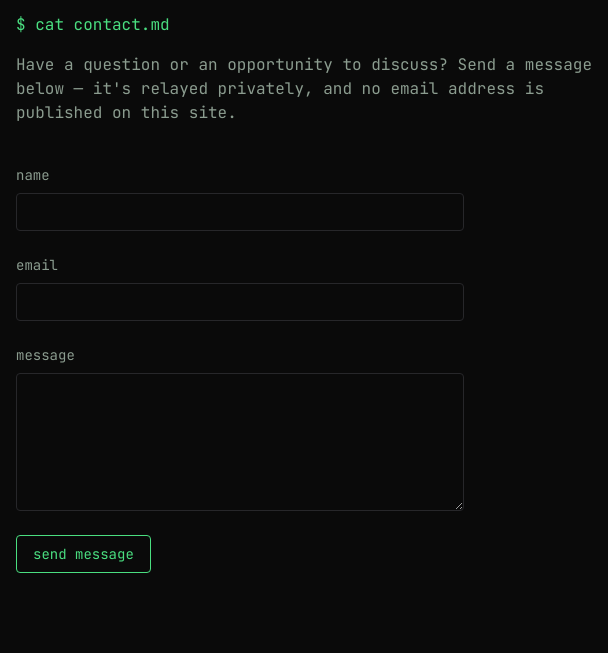
it: Contact page › shows an error state without crashing when the relay responds with a failure status
In the field labelled "name": (240, 212) [16,193,464,231], type "Ada Lovelace"
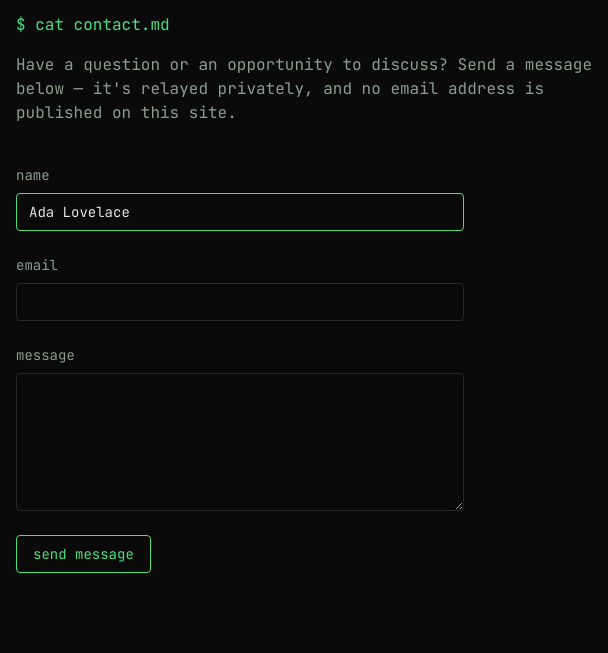
In the field labelled "email": (240, 302) [16,283,464,321], type "ada@example.com"
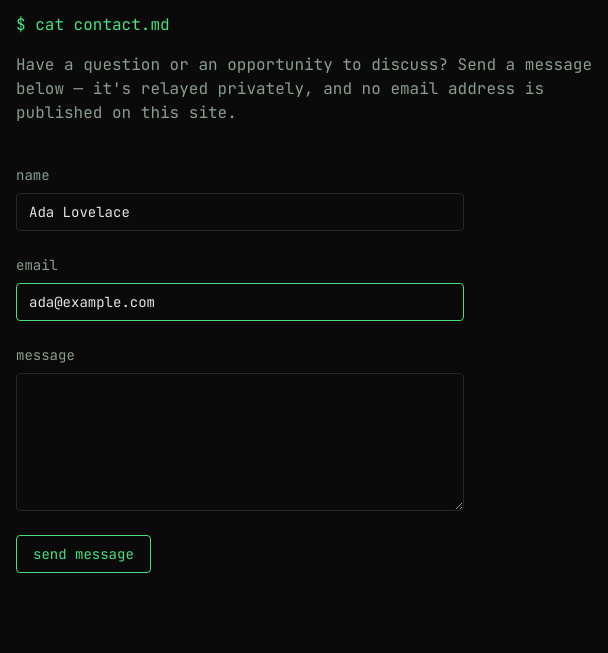
In the text box labelled "message": (240, 442) [16,373,464,511], type "Let's talk about opportunities."
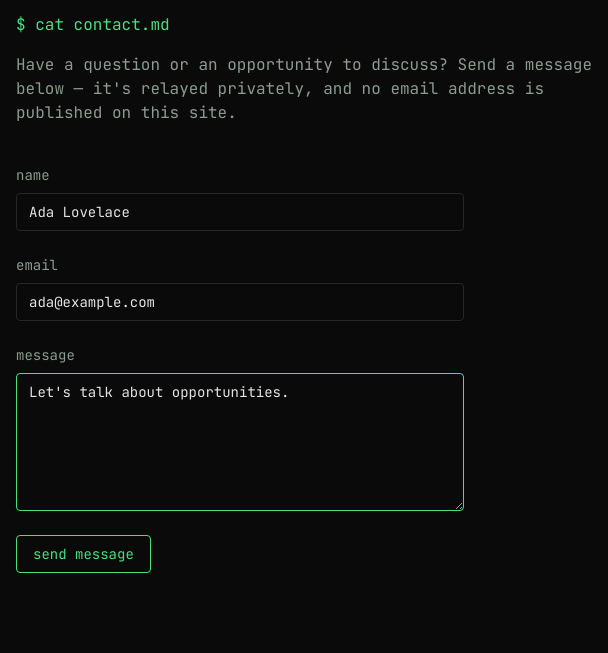
Click the button "send message": (83, 554) [16,535,151,573]
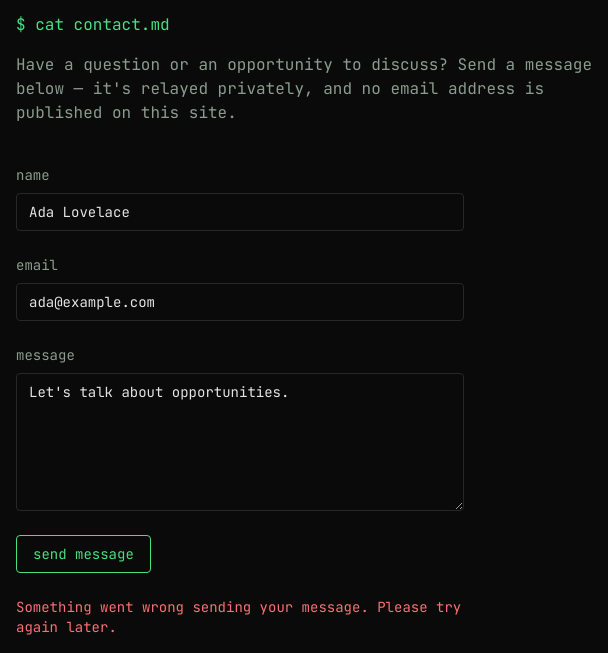
Expected: the message shows "Something went wrong", [16,598,461,636]
